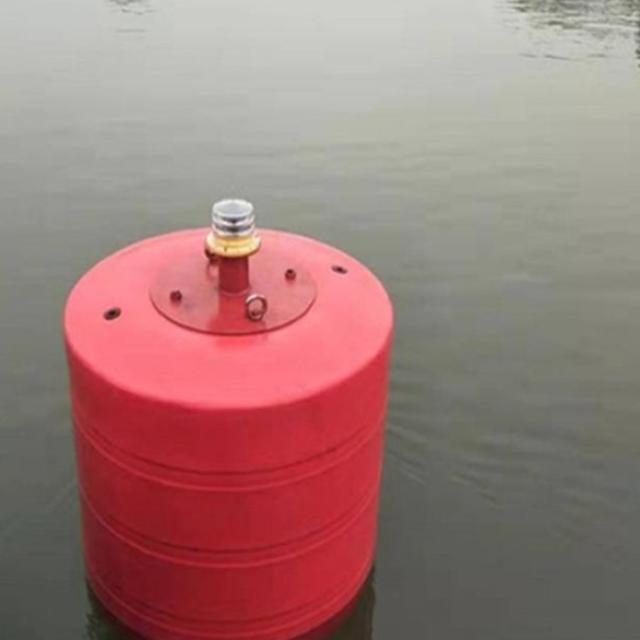buoy: (56, 193, 410, 640)
